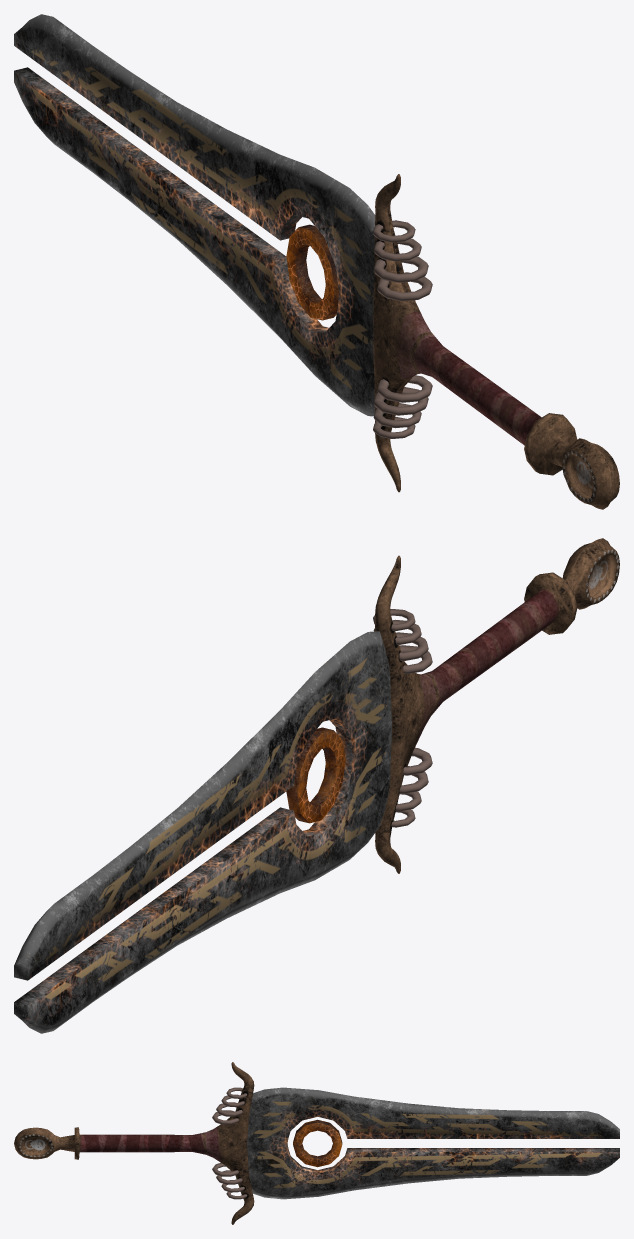
The picture shows the model from 3 angles, top to bottom: view 1: azimuth 30°, elevation 25°; view 2: azimuth 150°, elevation 25°; view 3: azimuth 270°, elevation 25°; orthographic projection. The views are drawn at different scales.
Visible parts, largest first — view 1: Blade, Handle, Ornament, Core; view 2: Blade, Handle, Core, Ornament; view 3: Blade, Handle, Core, Ornament.
Part boxes in pixels (<box>): Blade: <box>14,14,375,416</box>; Handle: <box>373,174,619,509</box>; Ornament: <box>373,220,432,438</box>; Core: <box>286,224,338,320</box>; Blade: <box>14,631,391,1033</box>; Handle: <box>375,538,619,873</box>; Core: <box>286,727,345,823</box>; Ornament: <box>373,609,432,827</box>; Blade: <box>247,1087,619,1199</box>; Handle: <box>14,1062,254,1224</box>; Core: <box>293,1119,342,1167</box>; Ornament: <box>212,1087,247,1199</box>.
Size of the model in its own units: 0.0971 by 0.5926 by 2.
4 materials, 4 textured.
